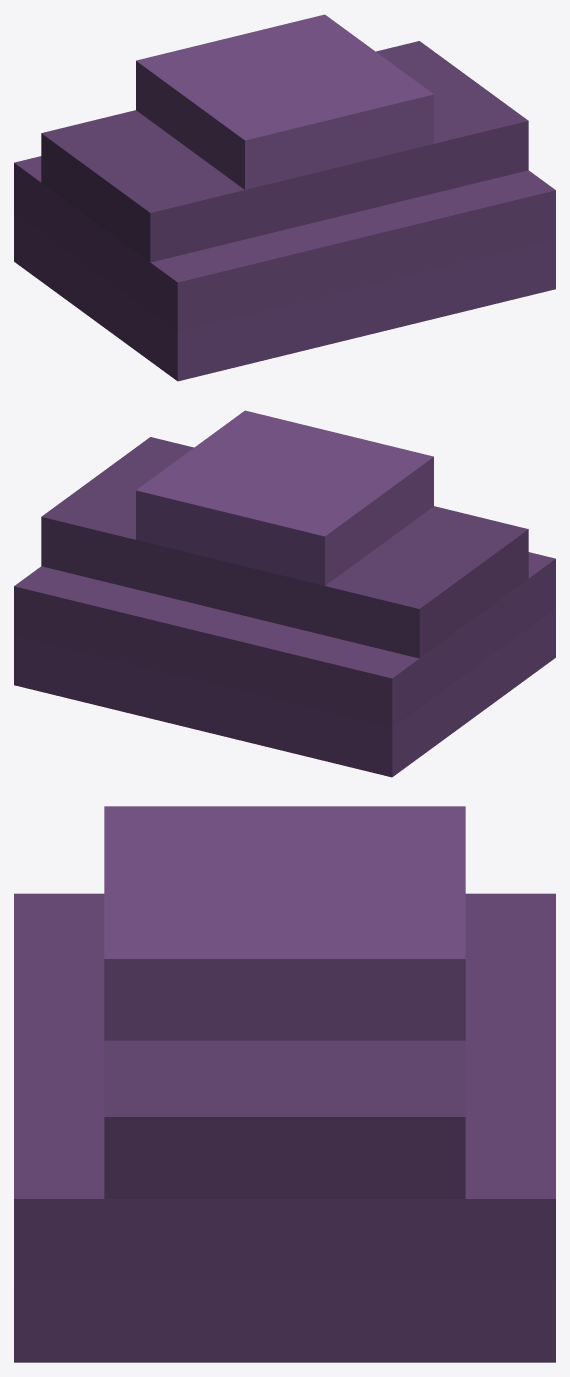
Rendered from mat_voidsteel_lod1.glb.
3 views of the same model, one above another, from view 1: azimuth 30°, elevation 25°; view 2: azimuth 150°, elevation 25°; view 3: azimuth 270°, elevation 25° (orthographic). The views are drawn at different scales.
Parts seen in each view (by area): view 1: mat_voidsteel_lod1; view 2: mat_voidsteel_lod1; view 3: mat_voidsteel_lod1.
Boxes of the visible parts, bbox=[...] form: mat_voidsteel_lod1: bbox=[14, 14, 555, 381]; mat_voidsteel_lod1: bbox=[14, 410, 555, 777]; mat_voidsteel_lod1: bbox=[14, 806, 555, 1362].
Size of the model in its own units: 0.192 by 0.096 by 0.144.
